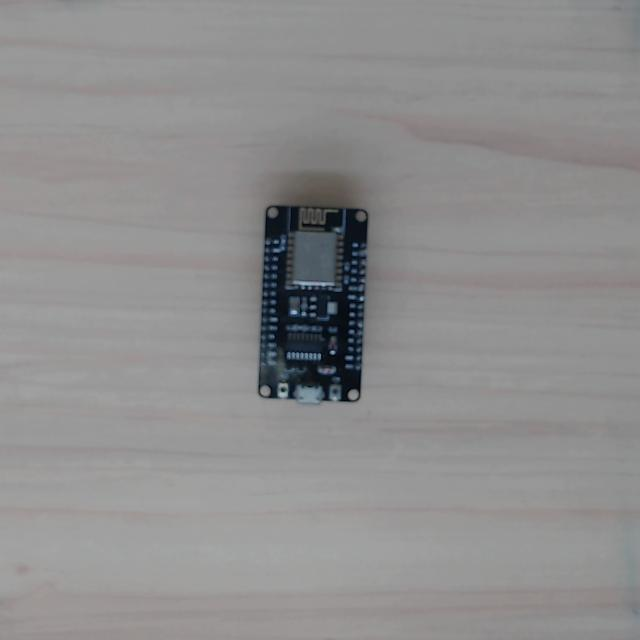ESP8266-NodeMCU: (256, 203, 370, 406)
